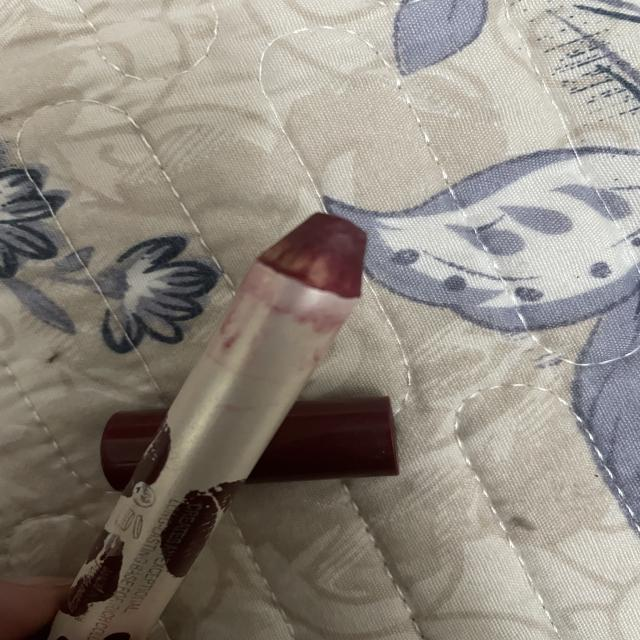lip liner: (0, 211, 362, 639)
